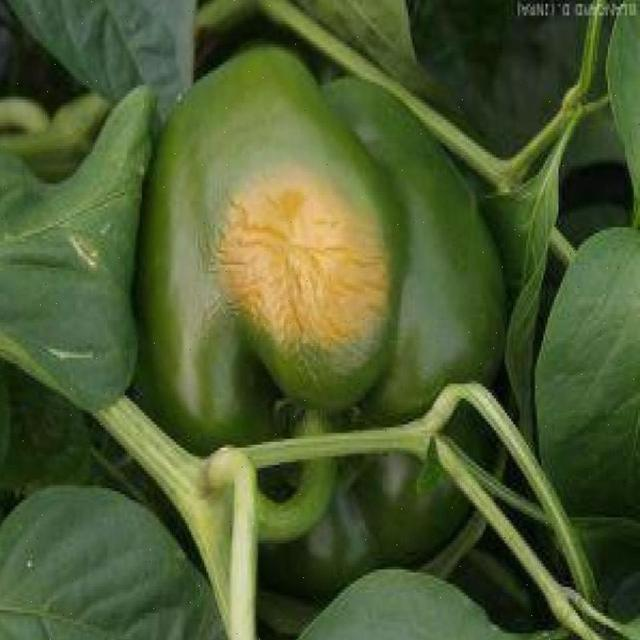Sunscald Fruit: (134, 107, 270, 256)
